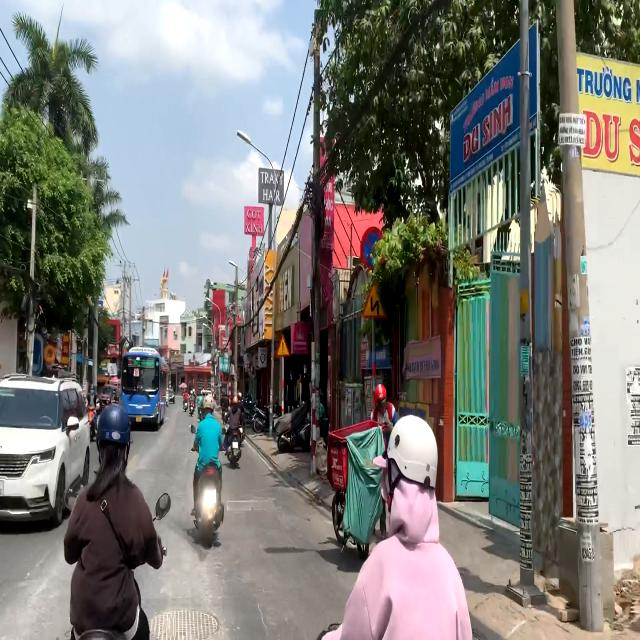W.202a: (362, 283, 387, 319)
W.233: (275, 333, 291, 358)
